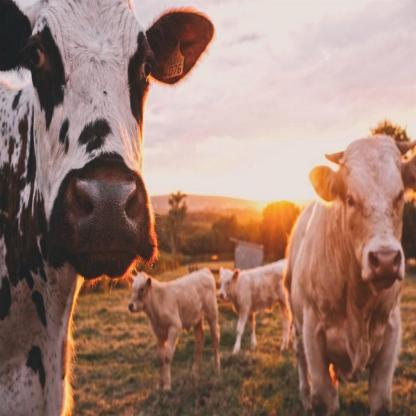cow: (0, 0, 214, 416), (287, 138, 416, 416), (129, 269, 220, 389), (219, 261, 294, 353)
